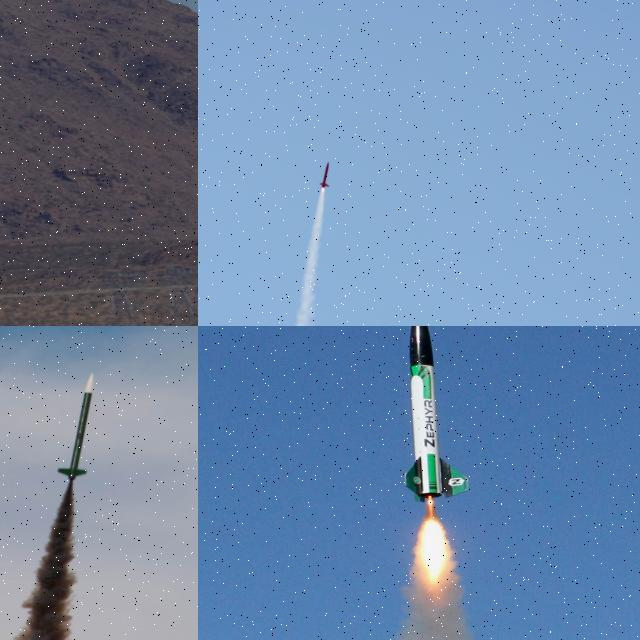Rocket: (400, 326, 470, 503), (57, 372, 94, 480), (319, 161, 330, 188)
